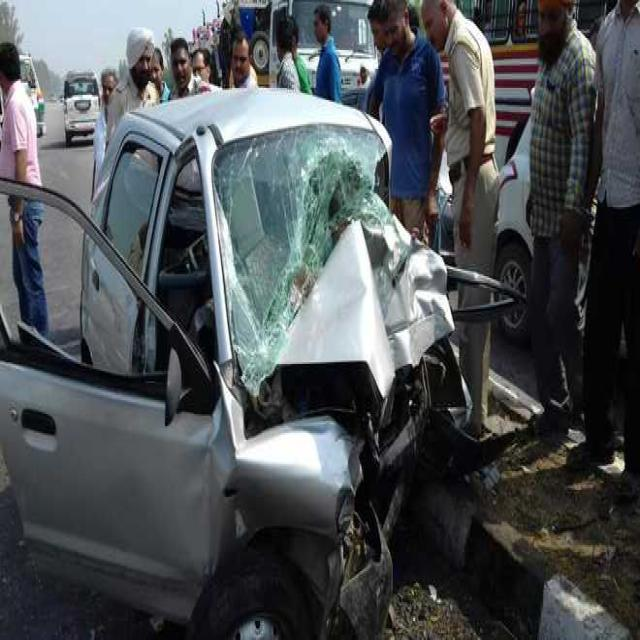accident: (0, 91, 511, 638)
car: (64, 71, 100, 143)
